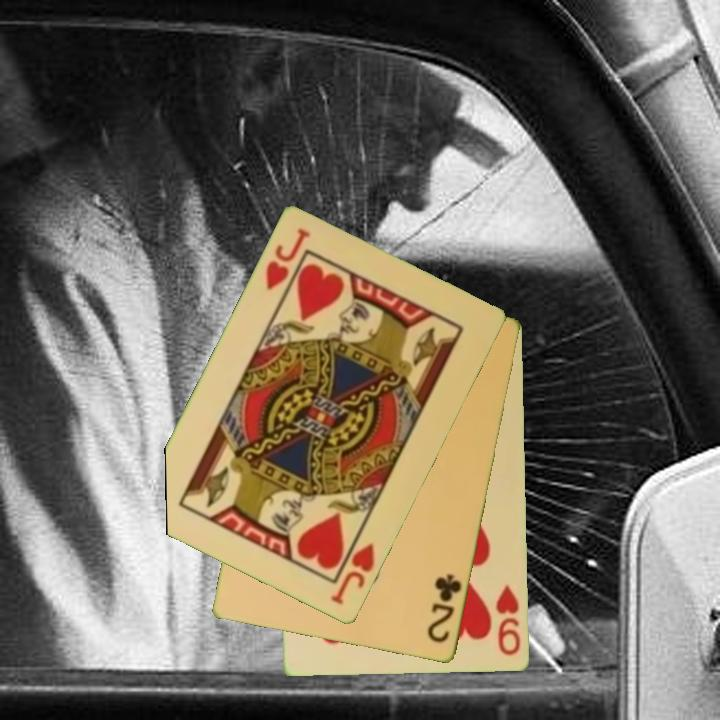2c: (424, 571, 465, 647)
9h: (493, 581, 524, 659)
Jh: (327, 527, 378, 608), (262, 225, 314, 294)
